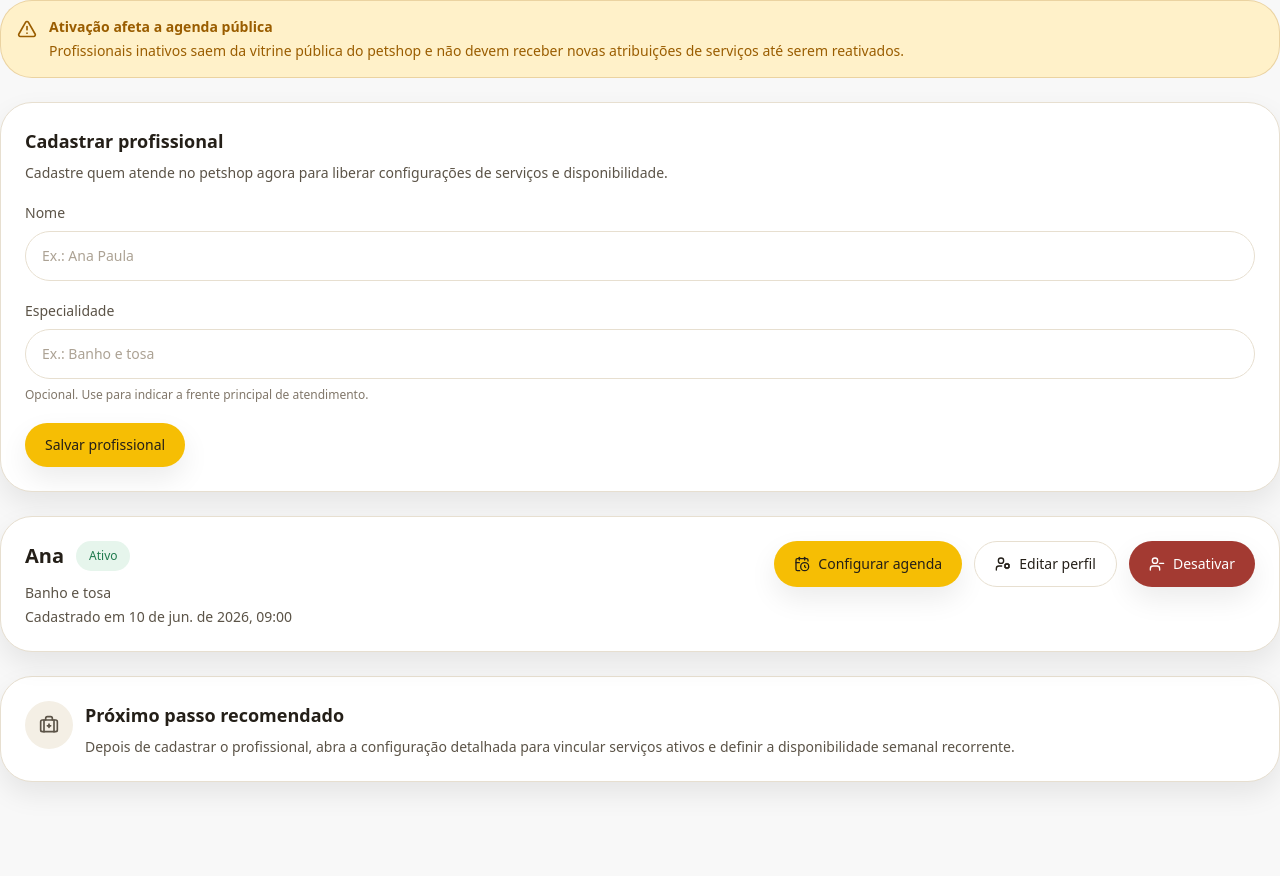
ProfessionalsPageClient › requires confirmation before deactivating a professional
Click the button "Desativar". click: {"x": 1192, "y": 564}
box: [1129, 541, 1255, 587]
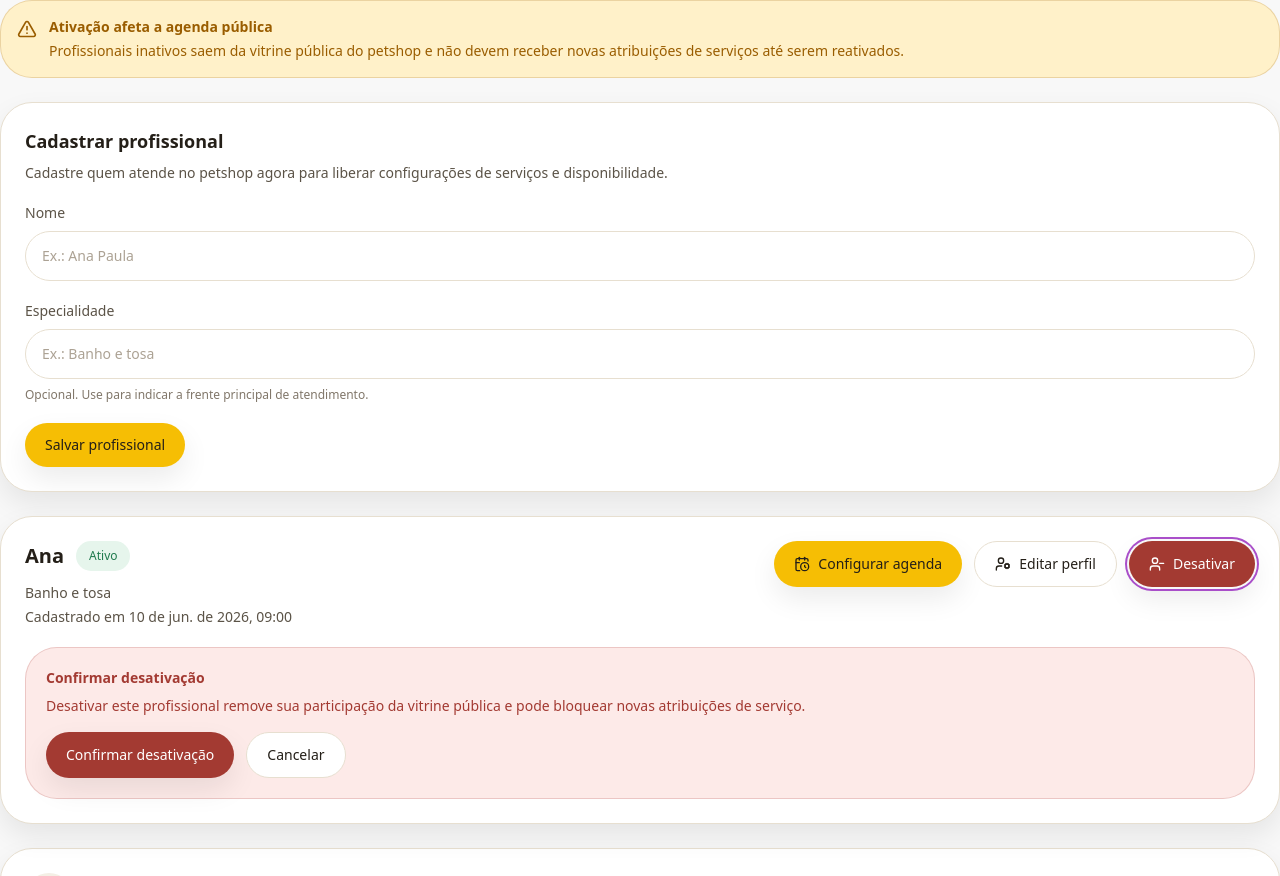
Expected: the text "Confirmar desativação" is shown 2 times
Click the button "Confirmar desativação". click: {"x": 140, "y": 755}
box: [46, 732, 234, 778]
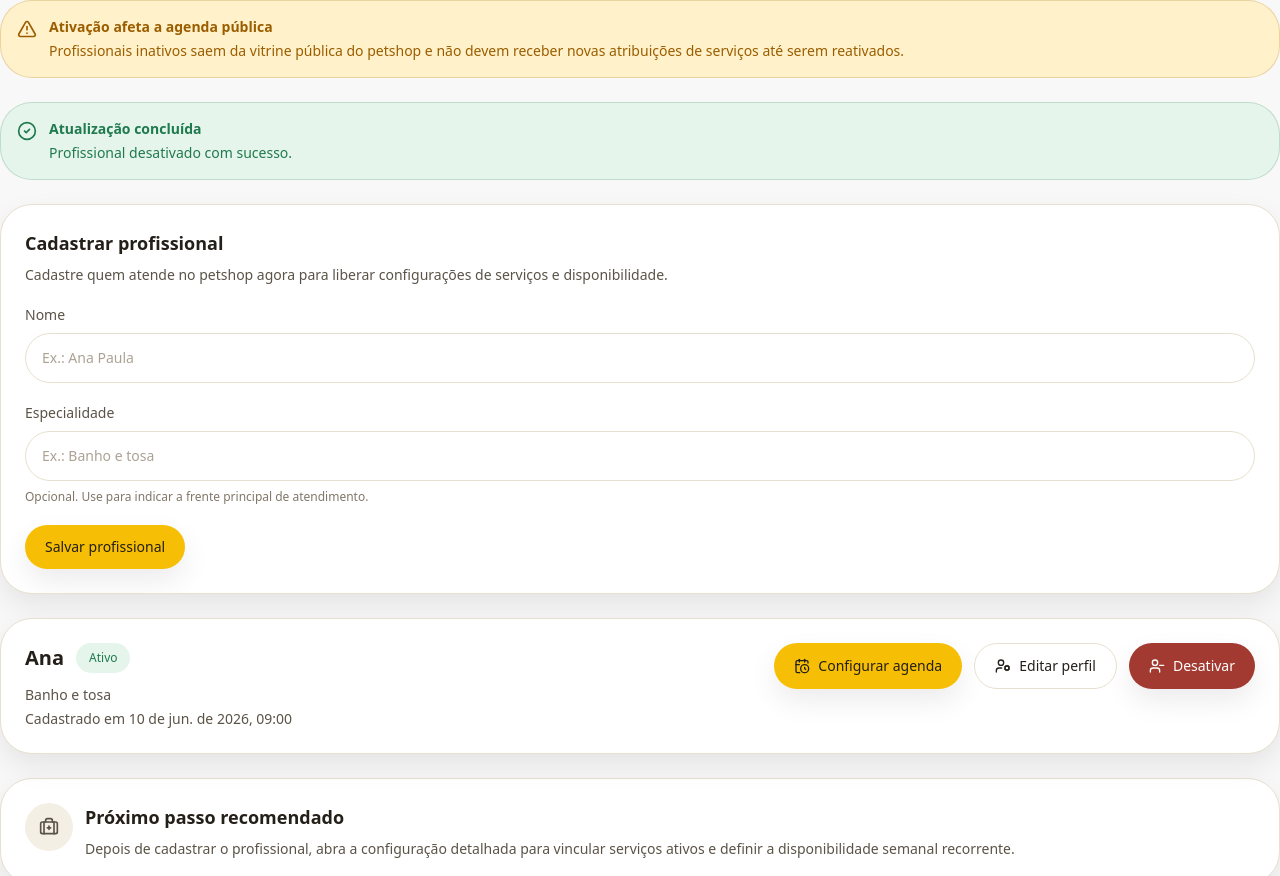
Expected: the text "Profissional desativado com sucesso." is shown, [49, 143, 292, 163]
